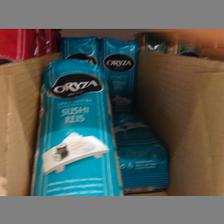Reis: (28, 57, 122, 195), (110, 108, 170, 192), (99, 36, 138, 108)
